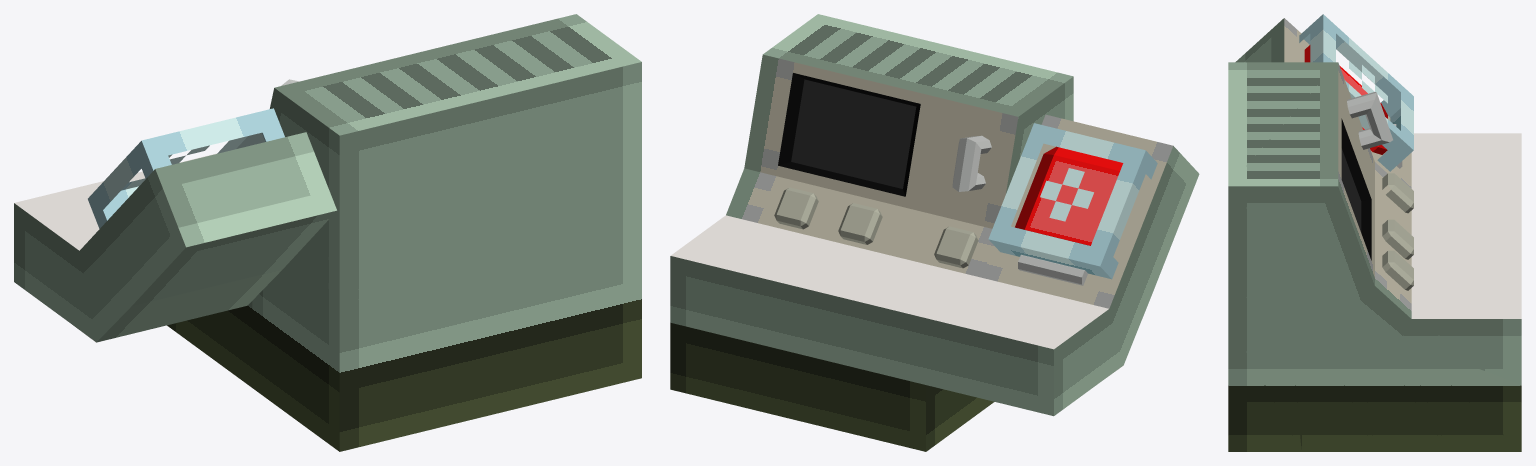
The model's file is control_computer.obj.
The picture shows the model from 3 angles, left to right: view 1: azimuth 30°, elevation 25°; view 2: azimuth 150°, elevation 25°; view 3: azimuth 270°, elevation 25°; orthographic projection. The views are drawn at different scales.
Parts seen in each view (by area): view 1: cuboid; view 2: cuboid, beveled_cuboid, torus, cylinder; view 3: cuboid, beveled_cuboid, torus.
Boxes of the visible parts, <box> form: cuboid: <box>14,14,641,451</box>; cuboid: <box>670,14,1199,451</box>; beveled_cuboid: <box>774,146,1123,268</box>; torus: <box>952,135,991,191</box>; cylinder: <box>1018,254,1087,285</box>; cuboid: <box>1228,14,1521,451</box>; beveled_cuboid: <box>1304,45,1413,290</box>; torus: <box>1347,92,1392,149</box>.
Size of the model in its own units: 1.5 by 1 by 1.
